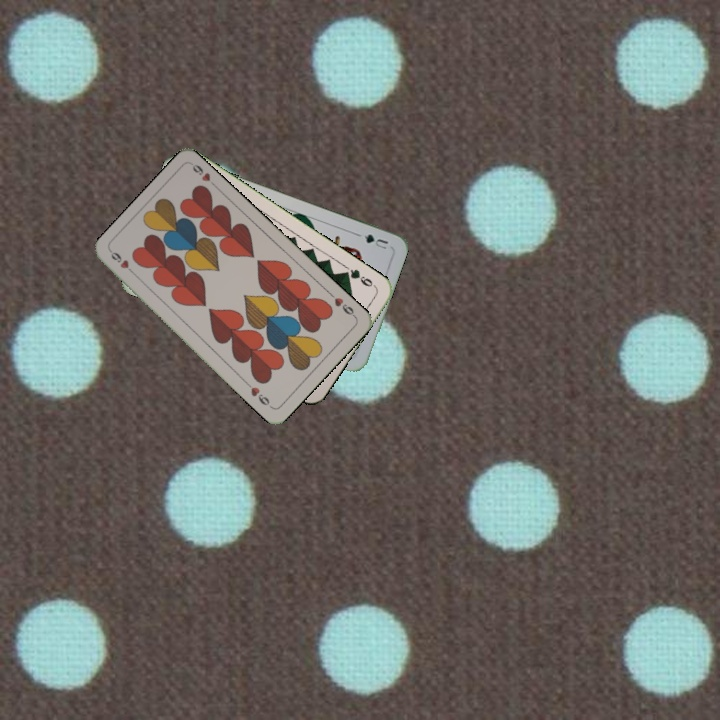G9: (340, 265, 379, 290)
GU: (360, 230, 391, 252)
H9: (107, 247, 140, 279), (326, 289, 359, 320)
